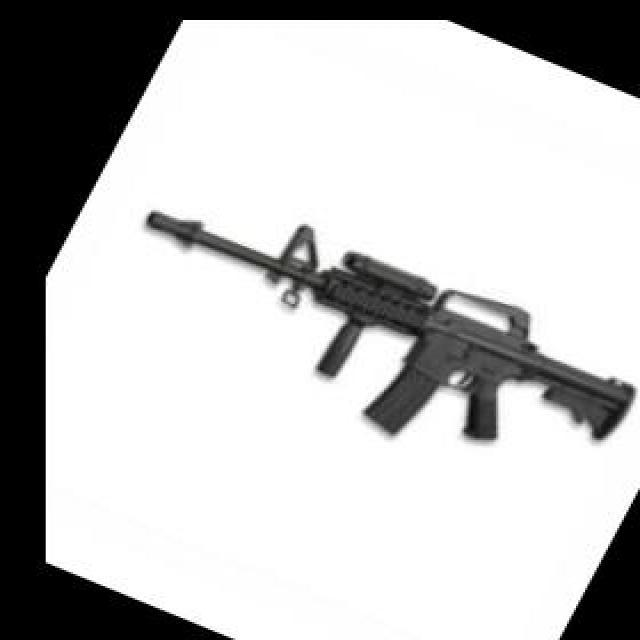weapon: (145, 209, 640, 445)
